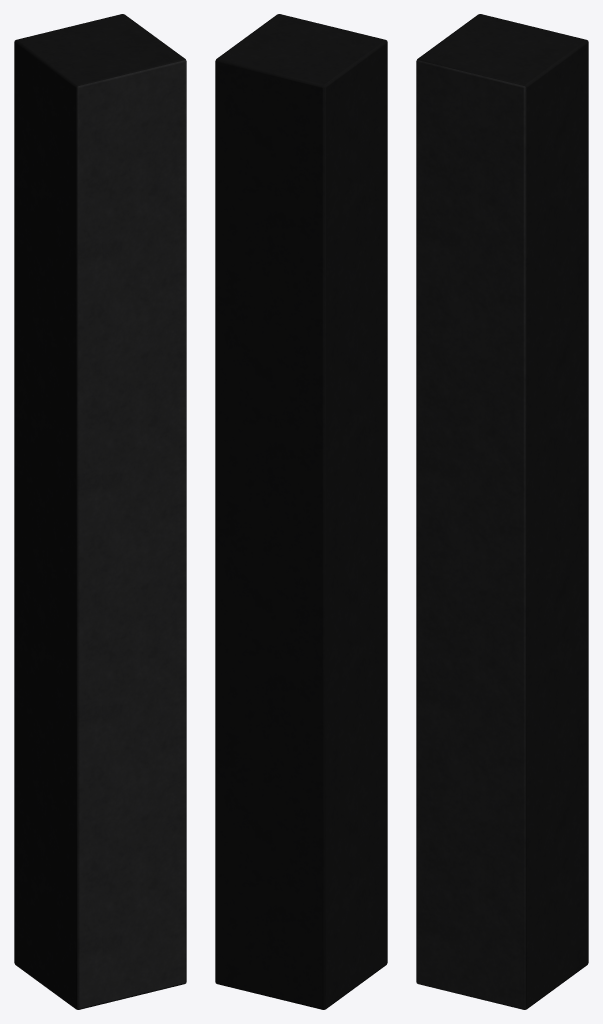
Rendered from Wall_Side.glb.
The picture shows the model from 3 angles, left to right: view 1: azimuth 30°, elevation 25°; view 2: azimuth 150°, elevation 25°; view 3: azimuth 330°, elevation 25°; orthographic projection.
Visible parts, largest first — view 1: Wall_Side; view 2: Wall_Side; view 3: Wall_Side.
Boxes of the visible parts, x1=… form: Wall_Side: x1=14, y1=14, x2=186, y2=1009; Wall_Side: x1=215, y1=14, x2=387, y2=1009; Wall_Side: x1=416, y1=14, x2=588, y2=1009.
Size of the model in its own units: 1 by 8 by 1.
2 materials, 2 textured.
